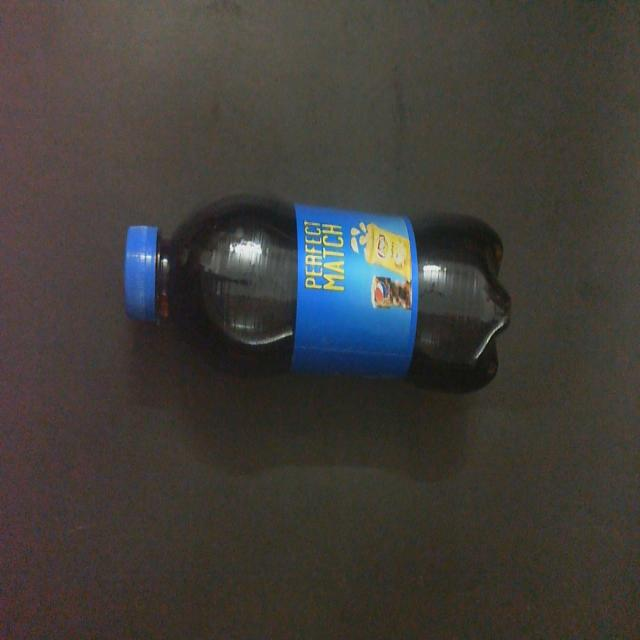non-defect: (120, 189, 514, 399)
